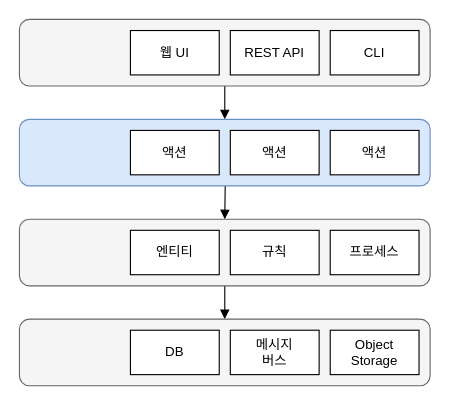
Image size: 450x405. Some labels were removed from this diagram. Here are the shapes that lost their labels. From the top down, the box of each, then its label:
(18, 18, 430, 86): 프레젠테이션 계층
(18, 118, 430, 186): 서비스 계층
(18, 218, 430, 286): 비즈니스 로직 계층
(18, 318, 430, 386): 데이터 접근 계층
